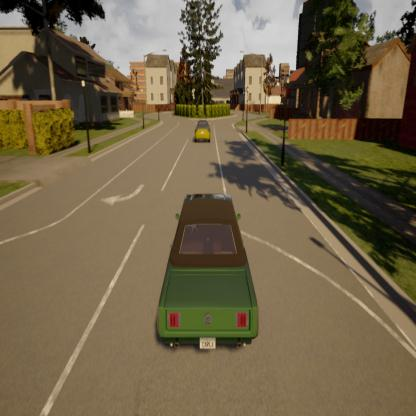Cars: (136, 189, 264, 363), (190, 116, 213, 145)
